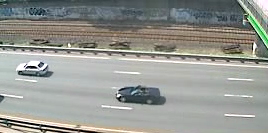car: (114, 83, 164, 107), (14, 58, 52, 78)
